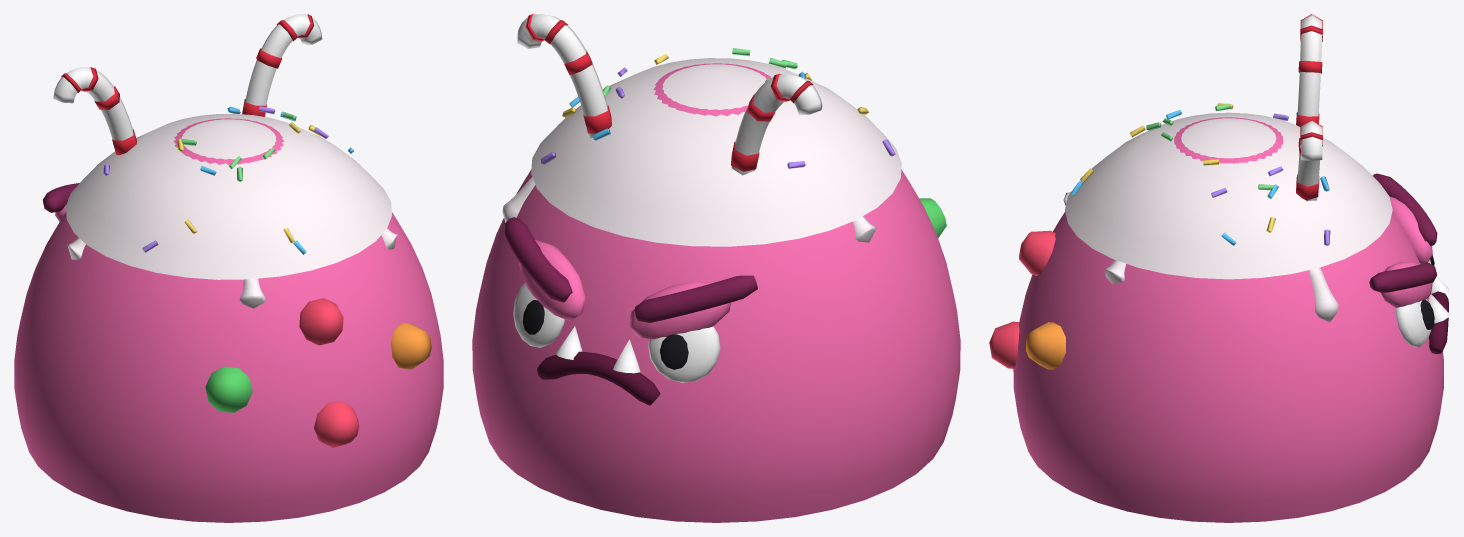
Rendered from Guardian_Candy.glb.
3 renders of one model, left to right at view 1: azimuth 30°, elevation 25°; view 2: azimuth 150°, elevation 25°; view 3: azimuth 270°, elevation 25°, orthographic. The views are drawn at different scales.
Parts seen in each view (by area): view 1: Body, Icing, CaneWhite, GumdropRed, CaneRed, GumdropGreen, GumdropOrange, Brows; view 2: Body, Icing, CaneWhite, Brows, Lids, Eyes, Mouth, CaneRed, Pupils, Teeth; view 3: Body, Icing, CaneWhite, Brows, GumdropRed, Lids, GumdropOrange, CaneRed, Eyes, Mouth.
Boxes of the visible parts, left/top/right/bottom form: Body: left=14, top=118, right=443, bottom=522; Icing: left=66, top=113, right=397, bottom=308; CaneWhite: left=53, top=14, right=322, bottom=155; GumdropRed: left=299, top=298, right=359, bottom=447; CaneRed: left=61, top=14, right=314, bottom=154; GumdropGreen: left=205, top=366, right=252, bottom=412; GumdropOrange: left=390, top=323, right=431, bottom=369; Brows: left=43, top=183, right=79, bottom=212; Body: left=472, top=63, right=960, bottom=522; Icing: left=502, top=58, right=901, bottom=246; CaneWhite: left=516, top=14, right=822, bottom=175; Brows: left=505, top=217, right=757, bottom=322; Lids: left=519, top=239, right=731, bottom=339; Eyes: left=513, top=283, right=720, bottom=382; Mouth: left=537, top=351, right=660, bottom=405; CaneRed: left=525, top=14, right=813, bottom=171; Pupils: left=522, top=300, right=688, bottom=369; Teeth: left=556, top=326, right=640, bottom=373; Body: left=1013, top=117, right=1443, bottom=522; Icing: left=1063, top=112, right=1392, bottom=322; CaneWhite: left=1297, top=14, right=1322, bottom=201; Brows: left=1369, top=173, right=1437, bottom=293; GumdropRed: left=989, top=230, right=1055, bottom=368; Lids: left=1380, top=197, right=1432, bottom=307; GumdropOrange: left=1026, top=322, right=1065, bottom=369; CaneRed: left=1296, top=14, right=1322, bottom=200; Eyes: left=1395, top=259, right=1431, bottom=347; Mouth: left=1429, top=291, right=1448, bottom=354.
Bounding box in the file's own units: 14.98 × 14.05 × 16.01.
